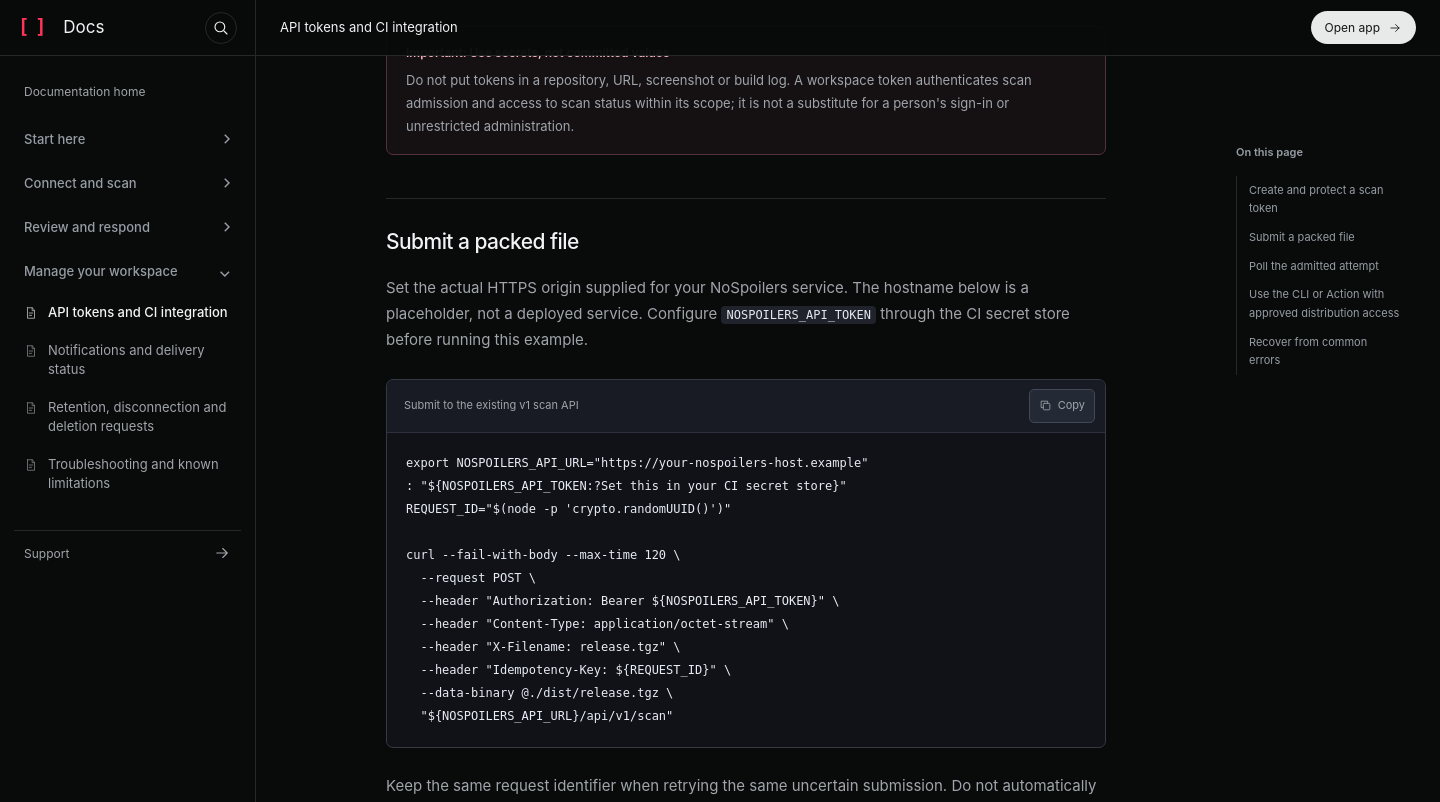
Test: Public documentation React adapter › reports clipboard success only after the promise succeeds and gives failure recovery
(page scrolled)
Click the button "Copy".
click(1062, 406)  # box [1029,389,1095,423]
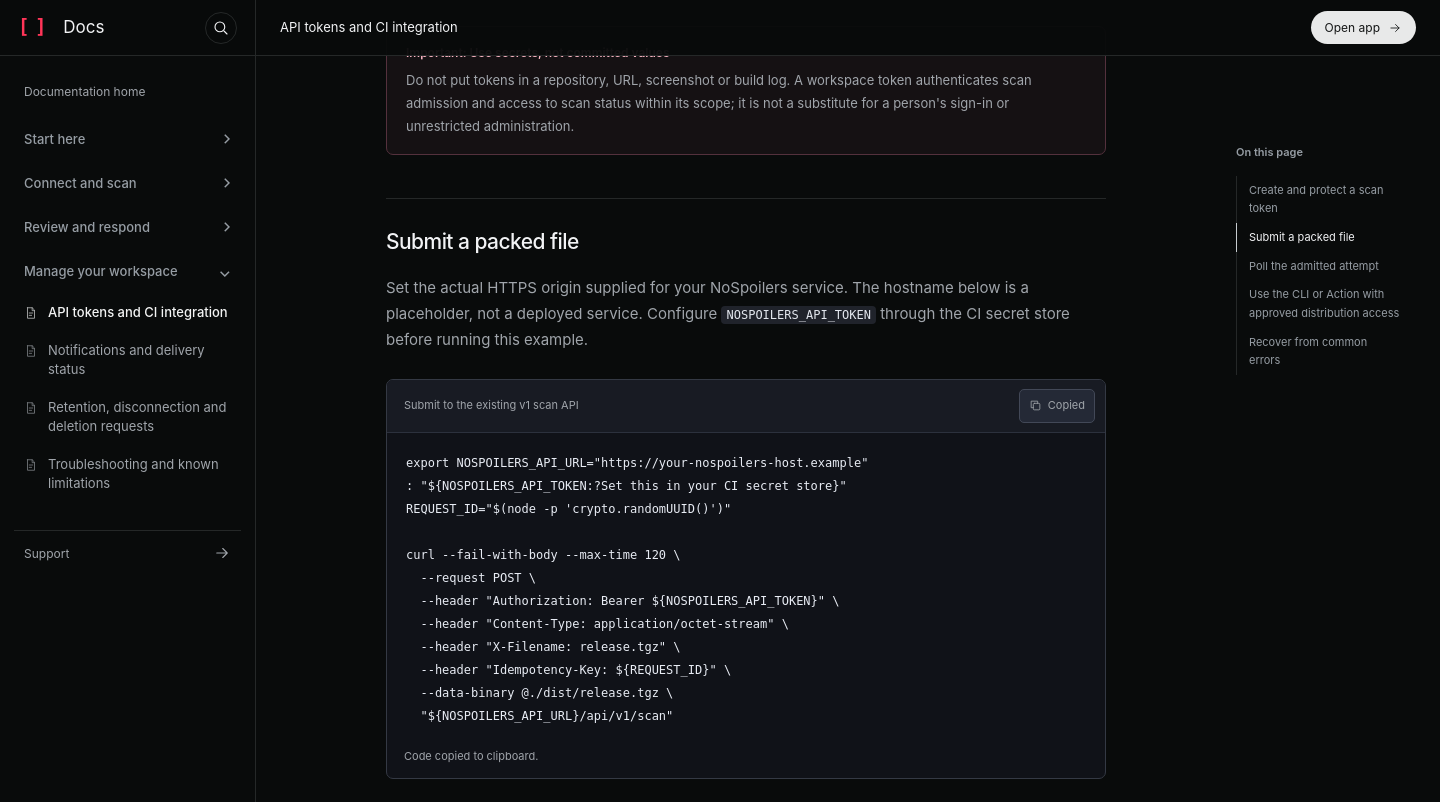
Now the message with class "nsw-copy-status" reads "Code copied to clipboard.", box [404,749,538,763]
Click the button "Copied".
click(1057, 406)  # box [1019,389,1095,423]
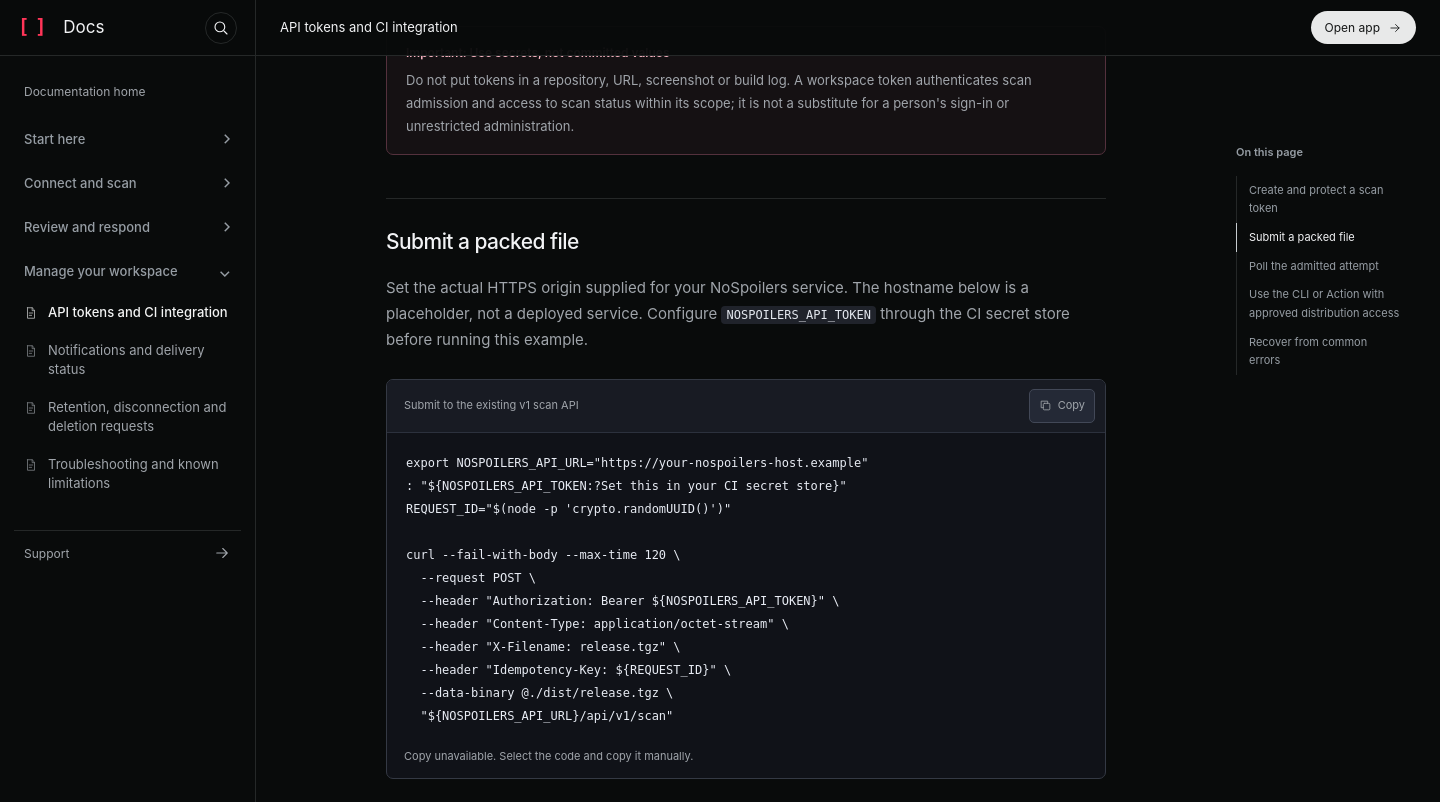
Now the message with class "nsw-copy-status" reads "Copy unavailable. Select the code and copy it manually.", box [404,749,693,763]
Now the button "Copy" is shown, box [1029,389,1095,423]
Now the button "Copied" no longer shows "Copied"
